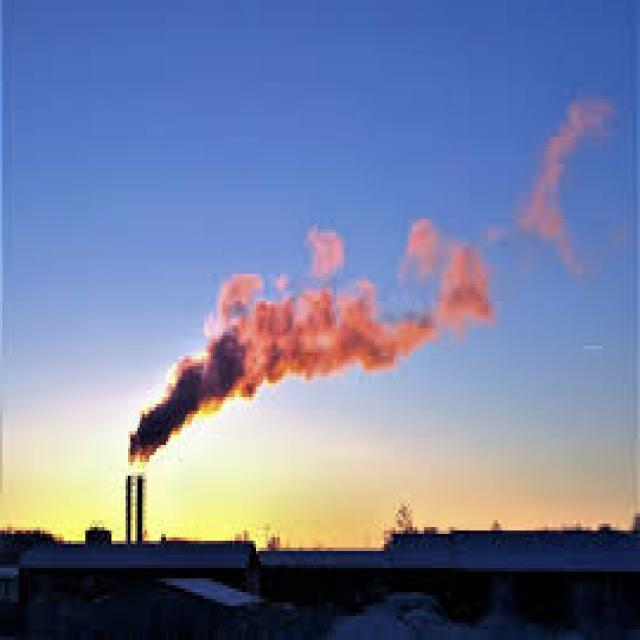Smoke: (114, 292, 408, 470)
